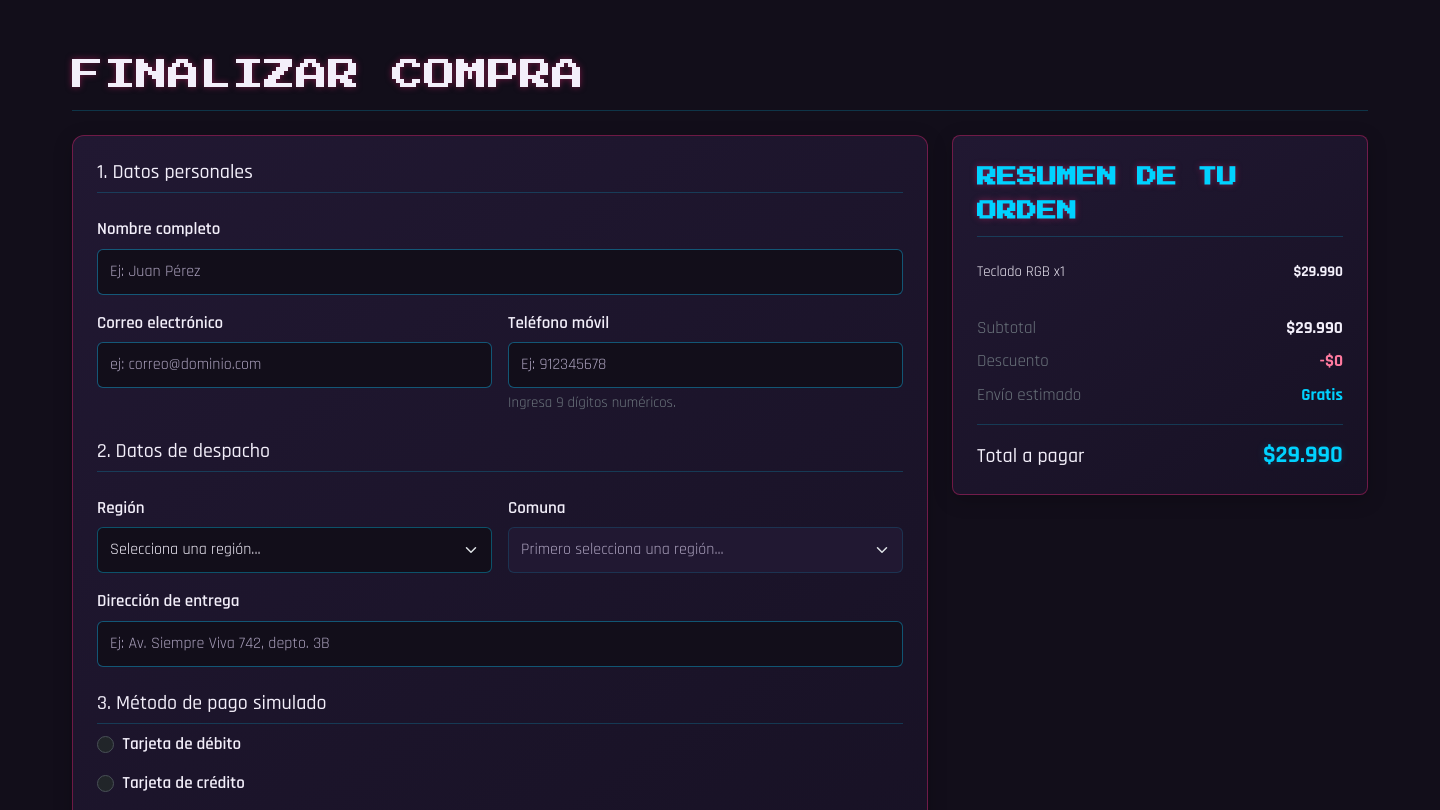
Scenario: Página Checkout › Debe registrar la orden y vaciar el carrito si los datos son válidos
This screenshot has width=1440, height=810.
Type "Juan Pérez" into the field labelled "Nombre completo" at (500, 272), box top-left (97, 249), bottom-right (903, 295)
Type "juan@correo.cl" into the field labelled "Correo electrónico" at (294, 365), box top-left (97, 342), bottom-right (492, 388)
Type "912345678" into the field labelled "Teléfono móvil" at (706, 365), box top-left (508, 342), bottom-right (903, 388)
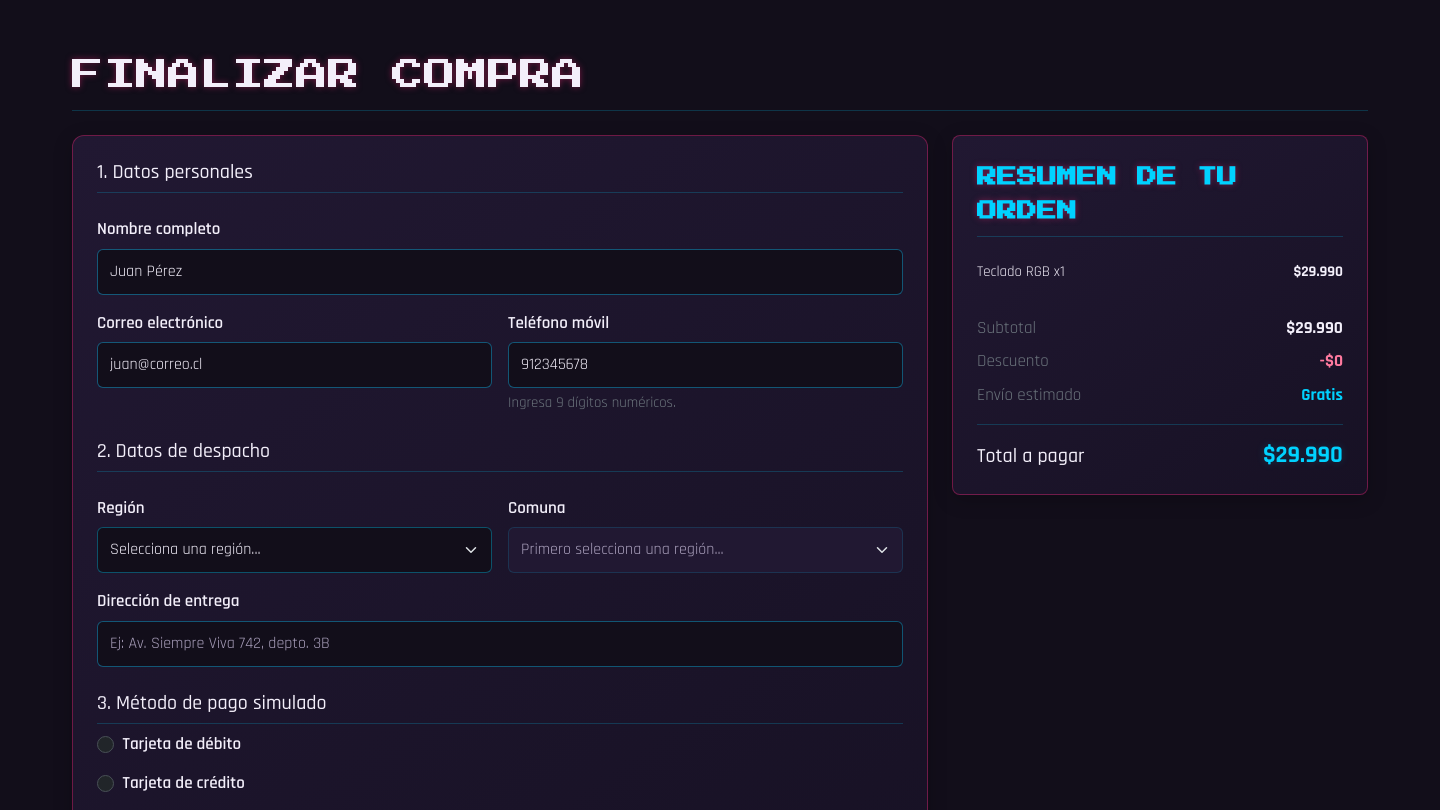
Select "Región Metropolitana" in the dropdown labelled "Región" at (294, 550), box top-left (97, 527), bottom-right (492, 573)
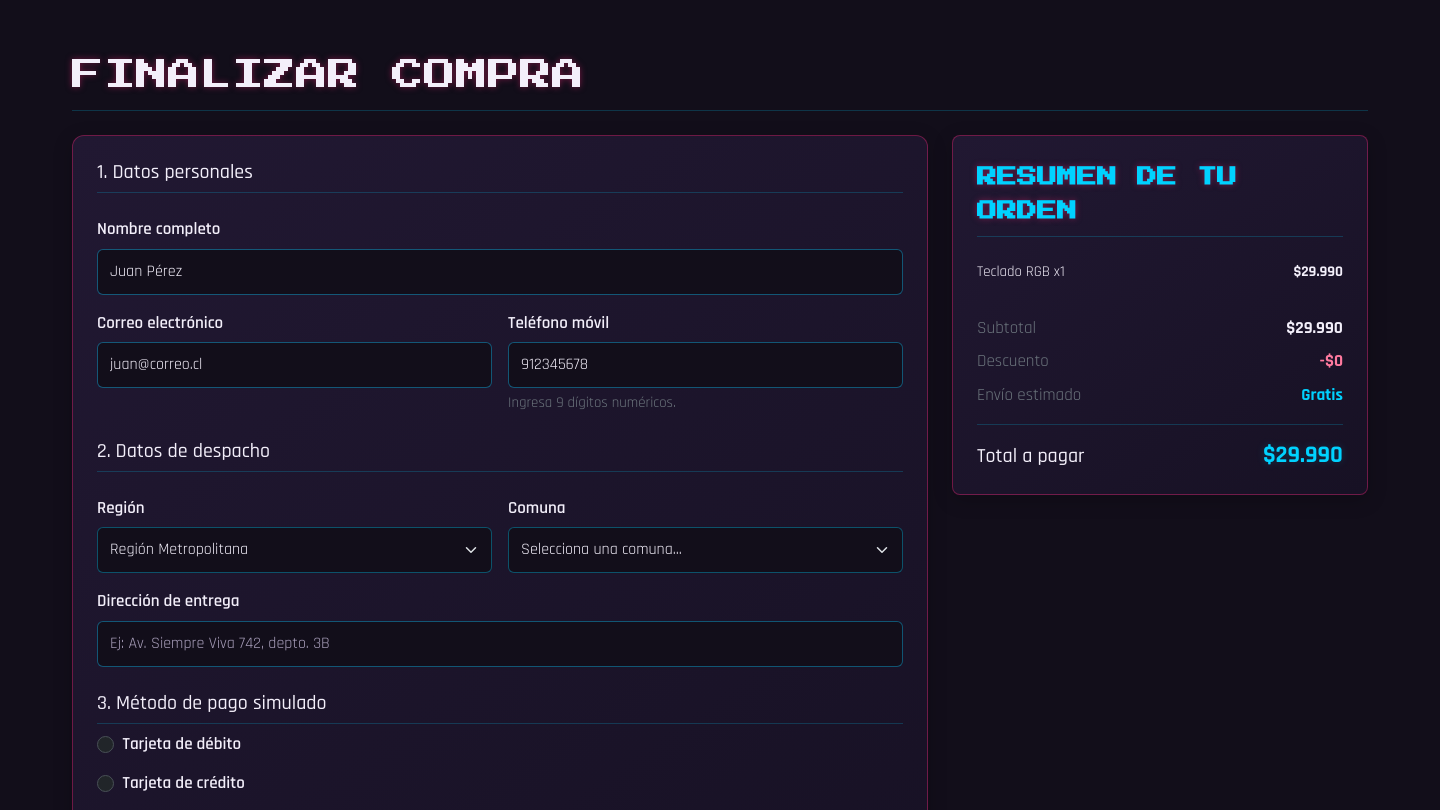
Select "Santiago" in the dropdown labelled "Comuna" at (706, 550), box top-left (508, 527), bottom-right (903, 573)
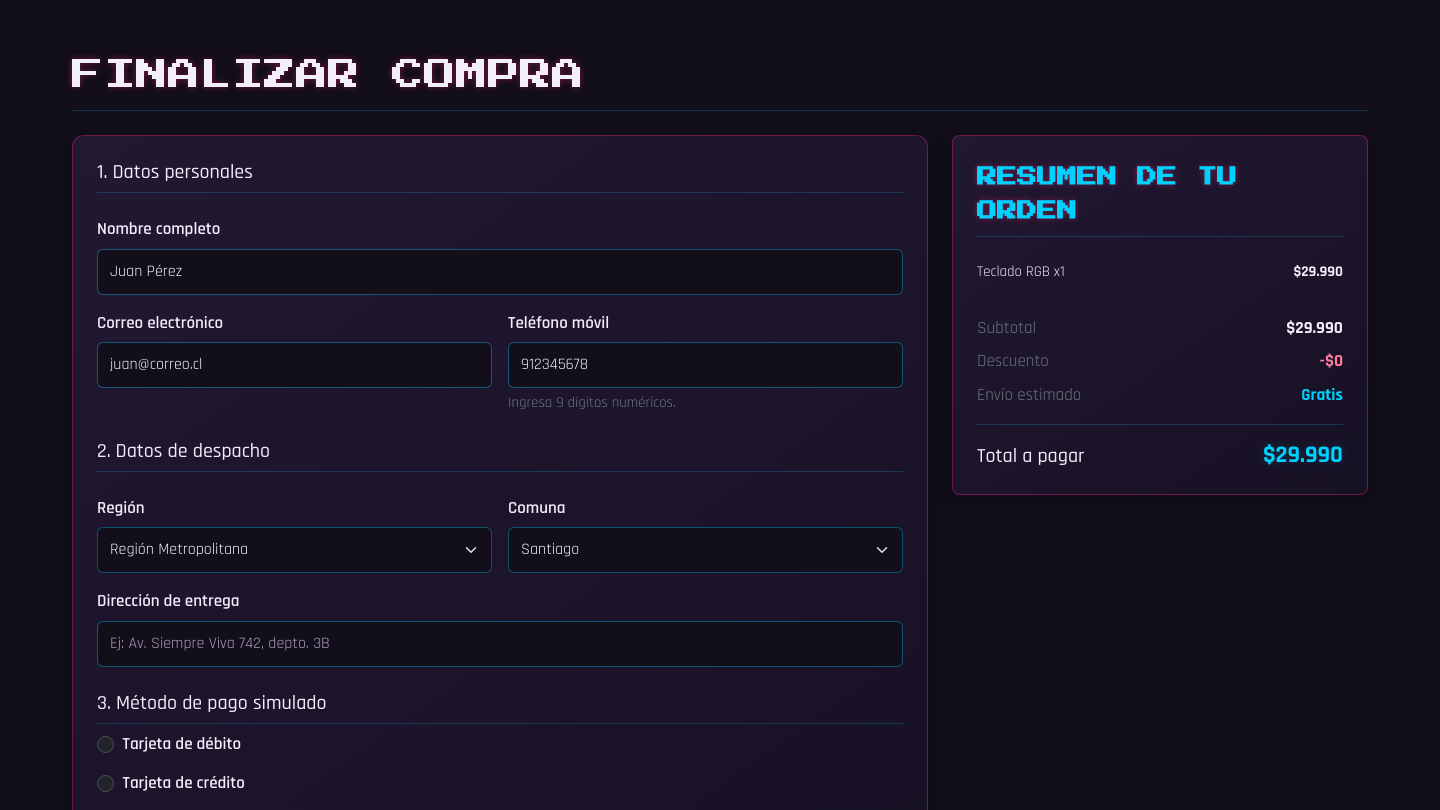
Type "Av. Providencia 123" into the field labelled "Dirección de entrega" at (500, 644), box top-left (97, 621), bottom-right (903, 667)
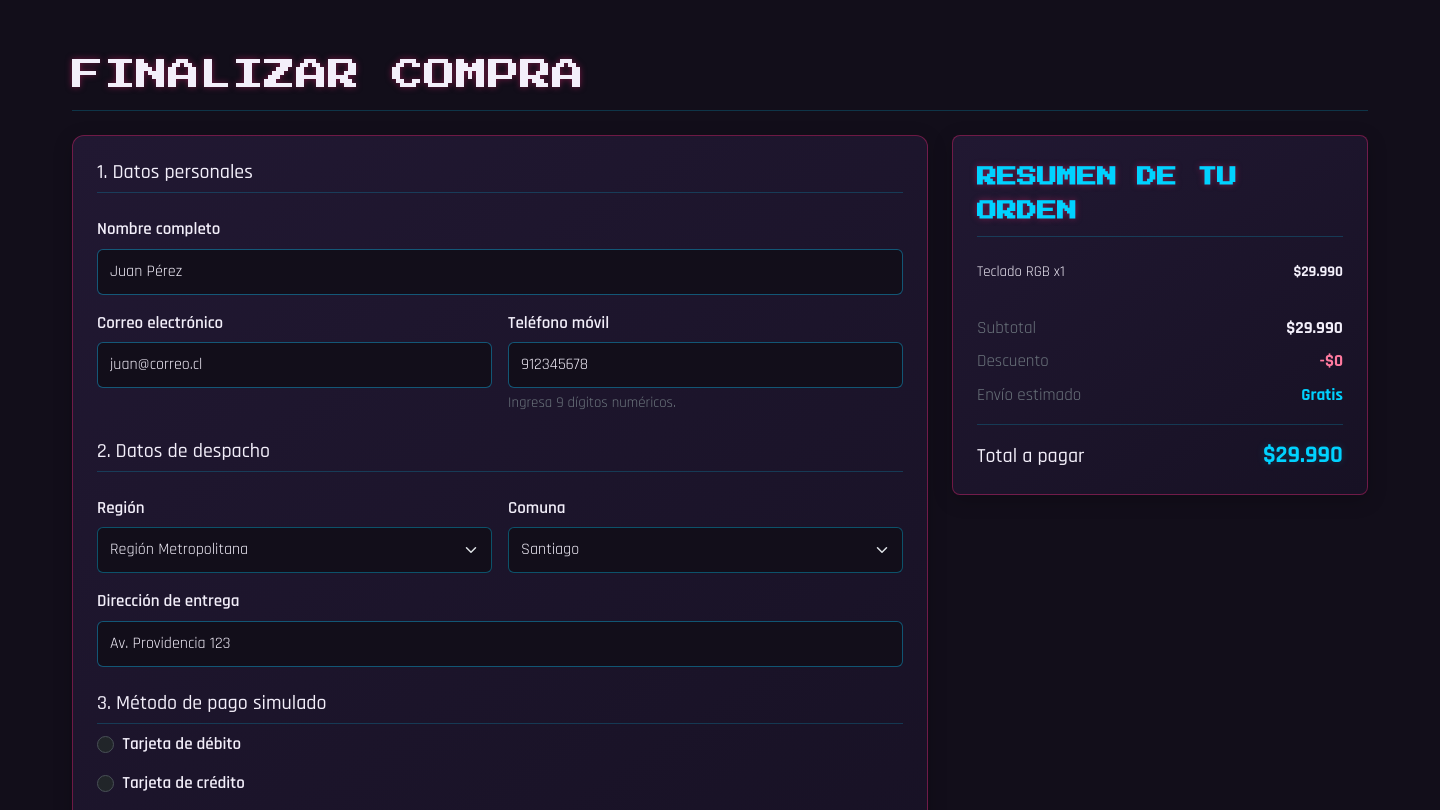
Click the radio button labelled "Tarjeta de débito" at (106, 744), box top-left (97, 736), bottom-right (114, 753)
(page scrolled)
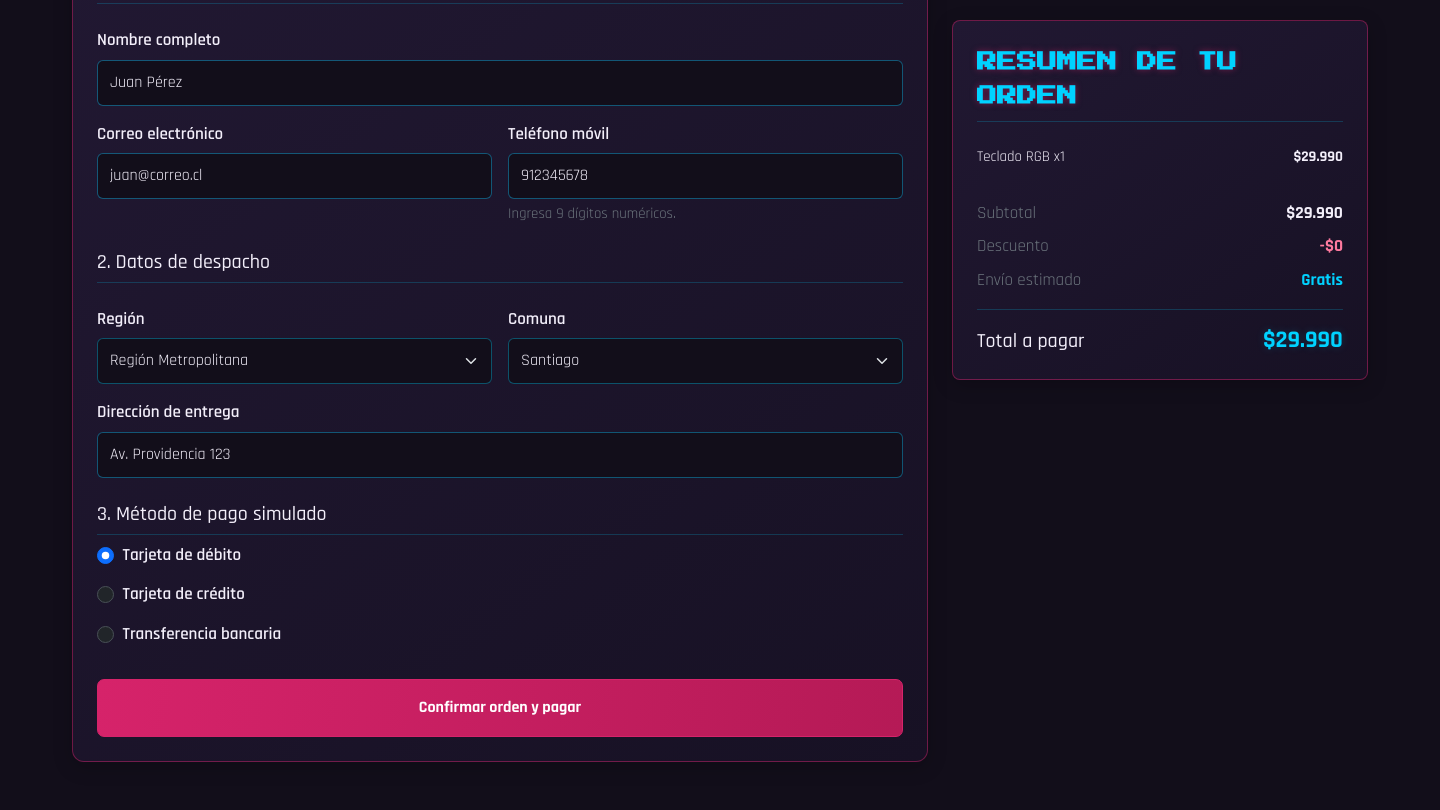
Click the button "Confirmar orden y pagar" at (500, 708), box top-left (97, 679), bottom-right (903, 737)
(page scrolled)
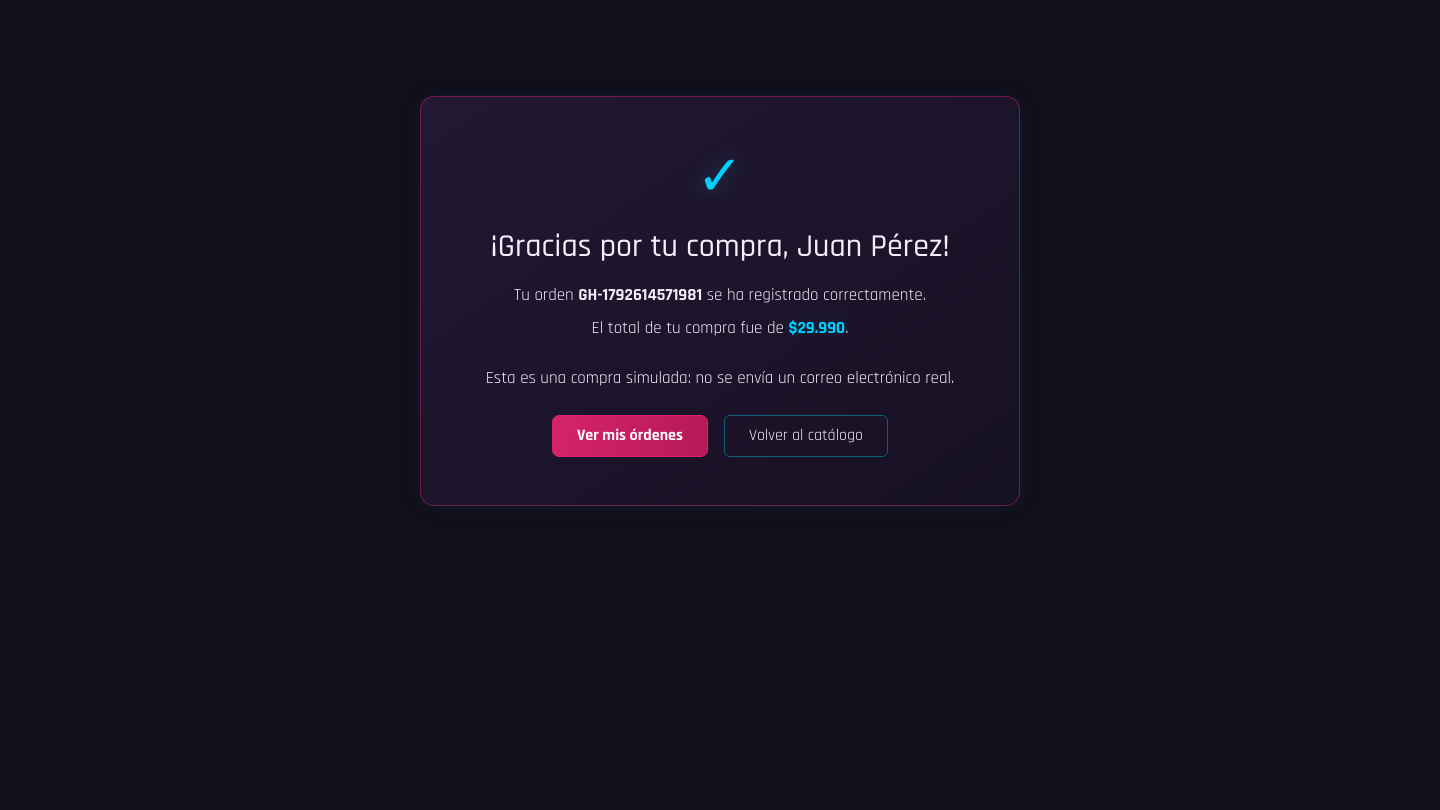
Check: the text "Tu orden GH-1792614571981 se ha registrado correctamente." is shown, box top-left (514, 284), bottom-right (926, 306)
